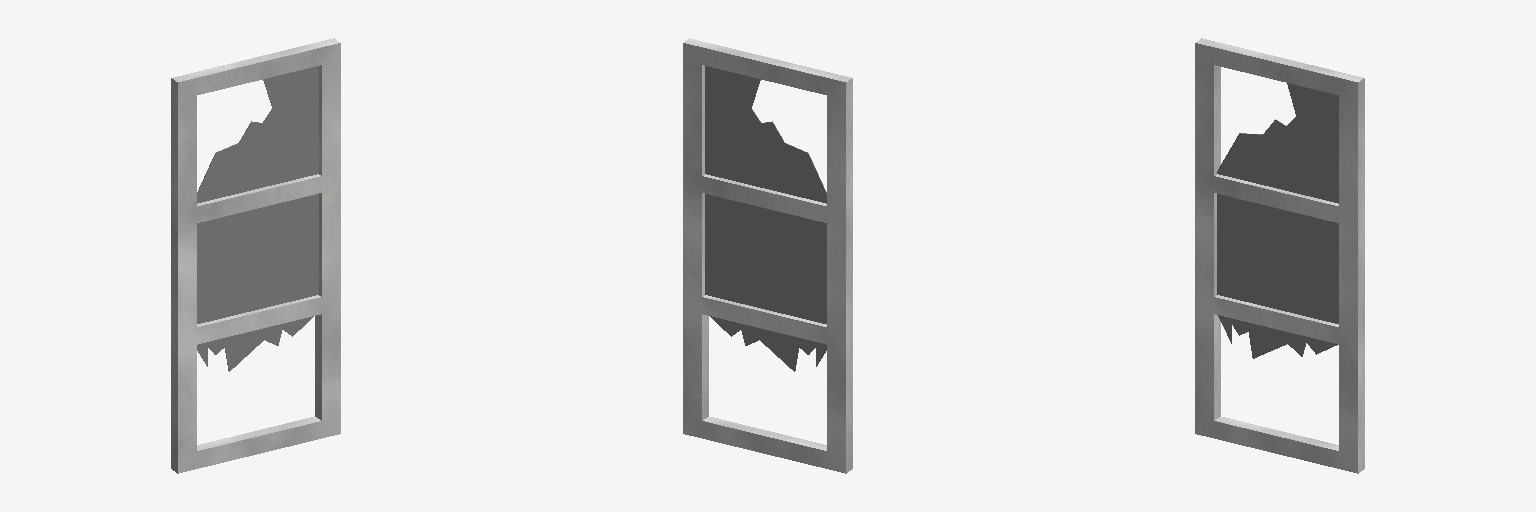
The picture shows the model from 3 angles: view 1: azimuth 30°, elevation 25°; view 2: azimuth 150°, elevation 25°; view 3: azimuth 330°, elevation 25°; orthographic projection.
Visible parts, largest first — view 1: Window_02, Window_Glass01; view 2: Window_02, Window_Glass01; view 3: Window_02, Window_Glass01.
Boxes of the visible parts, x1=… form: Window_02: x1=171, y1=38, x2=340, y2=473; Window_Glass01: x1=197, y1=66, x2=318, y2=371; Window_02: x1=683, y1=38, x2=852, y2=473; Window_Glass01: x1=705, y1=66, x2=826, y2=371; Window_02: x1=1195, y1=38, x2=1364, y2=473; Window_Glass01: x1=1217, y1=83, x2=1338, y2=358.
Bounding box in the file's own units: 53.46 × 123 × 3.56.
2 materials, 1 textured.